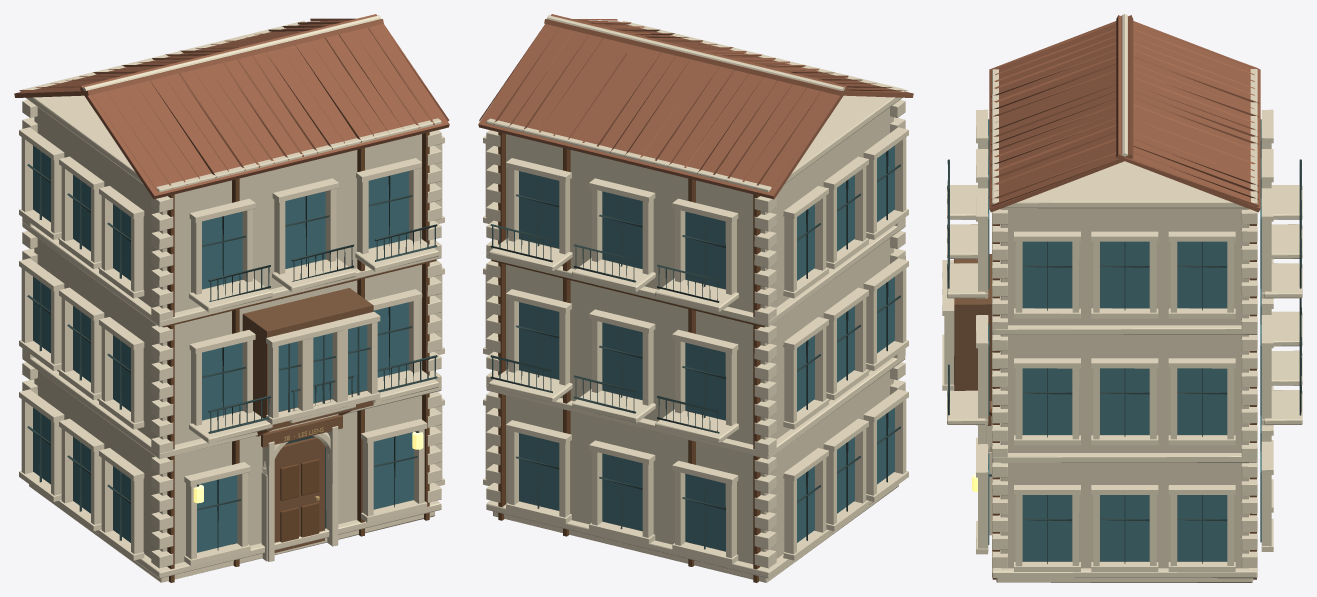
Rendered from turquie-3-lod.glb.
3 views of the same model, side by side, from view 1: azimuth 30°, elevation 25°; view 2: azimuth 150°, elevation 25°; view 3: azimuth 270°, elevation 25° (orthographic). The views are drawn at different scales.
Visible parts, largest first — view 1: turquie-3_Dressed stone.001, turquie-3_Regional roof.001, turquie-3_Masonry plaster.001, turquie-3_Window blue.001, turquie-3_Regional painted wood.001, turquie-3_Walnut.001, turquie-3_Forged midnight.001; view 2: turquie-3_Dressed stone.001, turquie-3_Masonry plaster.001, turquie-3_Regional roof.001, turquie-3_Window blue.001, turquie-3_Forged midnight.001, turquie-3_Walnut.001; view 3: turquie-3_Dressed stone.001, turquie-3_Regional roof.001, turquie-3_Masonry plaster.001, turquie-3_Window blue.001, turquie-3_Forged midnight.001, turquie-3_Regional painted wood.001, turquie-3_Walnut.001.
Part boxes in pixels (x1,y1,x2,y2): turquie-3_Dressed stone.001: (19, 15, 444, 582); turquie-3_Regional roof.001: (14, 14, 449, 199); turquie-3_Masonry plaster.001: (34, 107, 421, 563); turquie-3_Window blue.001: (33, 145, 413, 552); turquie-3_Regional painted wood.001: (242, 288, 373, 552); turquie-3_Walnut.001: (163, 132, 436, 582); turquie-3_Forged midnight.001: (27, 150, 437, 550); turquie-3_Dressed stone.001: (483, 15, 908, 582); turquie-3_Masonry plaster.001: (498, 107, 893, 564); turquie-3_Regional roof.001: (478, 14, 913, 199); turquie-3_Window blue.001: (519, 145, 894, 551); turquie-3_Forged midnight.001: (490, 150, 900, 549); turquie-3_Walnut.001: (491, 132, 764, 582); turquie-3_Dressed stone.001: (942, 14, 1302, 582); turquie-3_Regional roof.001: (989, 15, 1260, 212); turquie-3_Masonry plaster.001: (1000, 208, 1249, 568); turquie-3_Window blue.001: (988, 119, 1261, 561); turquie-3_Forged midnight.001: (947, 159, 1301, 563); turquie-3_Regional painted wood.001: (954, 254, 1000, 425); turquie-3_Walnut.001: (989, 224, 1256, 579).
Bounding box in the file's own units: 13.93 × 19.23 × 14.44.
